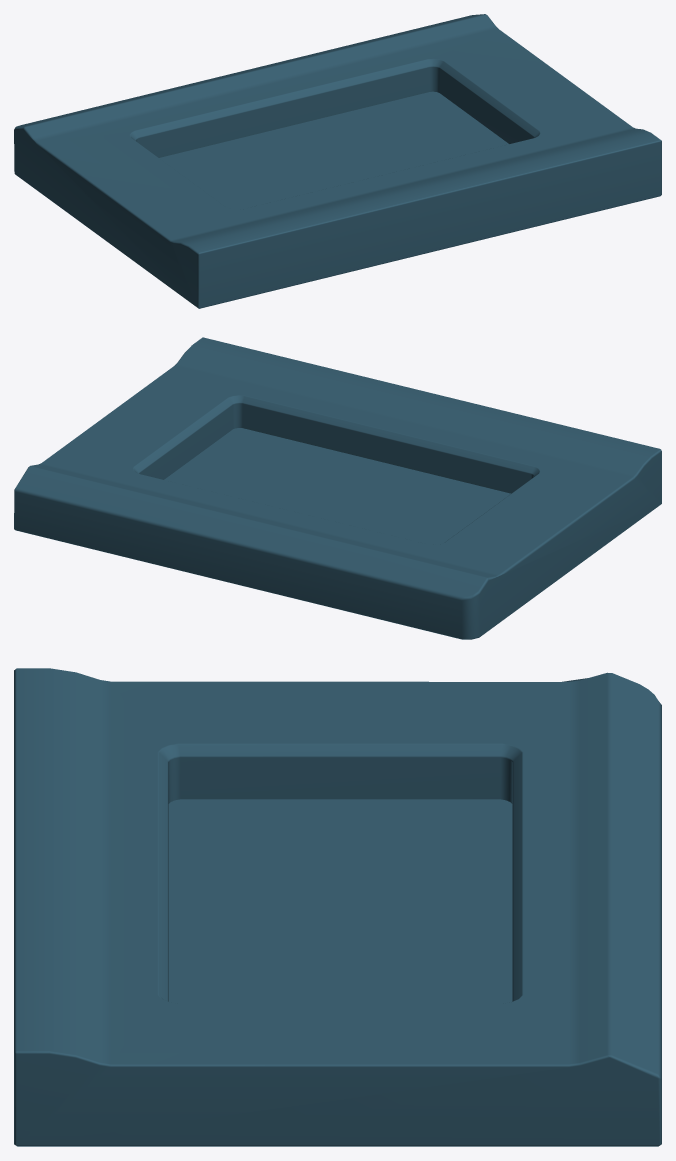
The model's file is SM_MicStove_01_Door_01.fbx.
The picture shows the model from 3 angles, top to bottom: view 1: azimuth 30°, elevation 25°; view 2: azimuth 150°, elevation 25°; view 3: azimuth 270°, elevation 25°; orthographic projection. The views are drawn at different scales.
Visible parts, largest first — view 1: SM_MicStove_01_Door_01; view 2: SM_MicStove_01_Door_01; view 3: SM_MicStove_01_Door_01.
Part boxes in pixels (x1=…): SM_MicStove_01_Door_01: x1=14, y1=14, x2=661, y2=308; SM_MicStove_01_Door_01: x1=14, y1=337, x2=661, y2=639; SM_MicStove_01_Door_01: x1=14, y1=668, x2=661, y2=1146.
Bounding box in the file's own units: 54.49 × 6.34 × 38.77.
